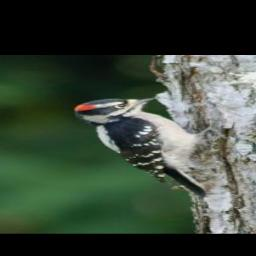Woodpecker: (70, 94, 220, 199)
